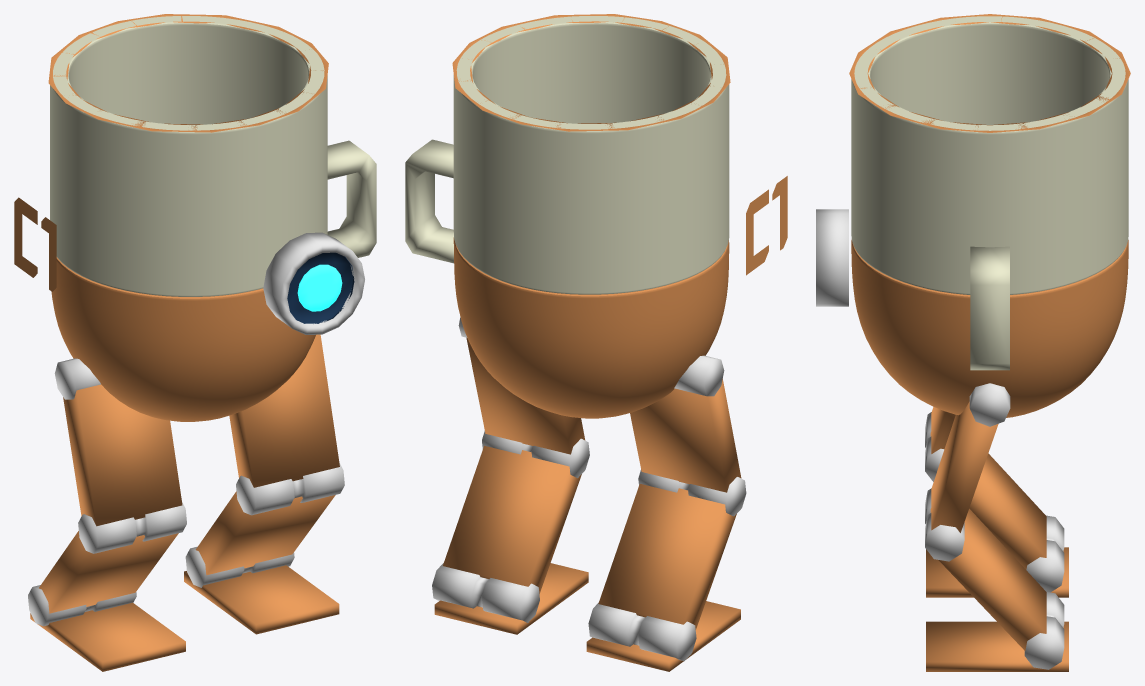
Rendered from Robot.glb.
The picture shows the model from 3 angles, left to right: view 1: azimuth 30°, elevation 25°; view 2: azimuth 150°, elevation 25°; view 3: azimuth 270°, elevation 25°; orthographic projection.
Parts seen in each view (by area): view 1: Roundcube, Cube.001_slice, Cube.001_slice.002, Cylinder, Cube.001_slice.003, Cube.001_slice.001, Cube.008, Cube.005, Cube, Cylinder.002, Cylinder.005, Roundcube.001 (+4 smaller); view 2: Roundcube, Cube.001_slice.003, Cube.001_slice.001, Cube.001_slice, Cube.001_slice.002, Cube, Cylinder.003, Cylinder.006, Cube.008, Cube.005, Roundcube.001, Cylinder.002 (+3 smaller); view 3: Roundcube, Cube.001_slice.003, Cube.008, Cube, Cube.001_slice.001, Cube.001_slice.002, Cylinder, Roundcube.001, Cylinder.006, Cylinder.003, Cube.005, Cylinder.005 (+3 smaller).
Boxes of the visible parts, x1,y1,x2,y2 form: Roundcube: (50,16,327,421); Cube.001_slice: (63,384,182,526); Cube.001_slice.002: (229,334,339,487); Cylinder: (263,232,364,334); Cube.001_slice.003: (195,491,335,575); Cube.001_slice.001: (39,531,178,613); Cube.008: (184,565,339,634); Cube.005: (30,602,185,671); Cube: (327,140,376,257); Cylinder.002: (78,502,186,553); Cylinder.005: (236,462,344,515); Roundcube.001: (48,14,328,132); Roundcube: (453,16,729,418); Cube.001_slice.003: (443,445,581,593); Cube.001_slice.001: (598,484,736,629); Cube.001_slice: (630,379,741,492); Cube.001_slice.002: (466,337,585,454); Cube: (405,139,453,263); Cylinder.003: (588,603,696,661); Cylinder.006: (432,563,539,622); Cube.008: (434,563,588,634); Cube.005: (586,601,740,671); Roundcube.001: (452,14,730,131); Cylinder.002: (638,469,746,516); Roundcube: (851,16,1128,417); Cube.001_slice.003: (938,508,1046,650); Cube.008: (926,621,1068,671); Cube: (970,246,1009,370); Cube.001_slice.001: (969,453,1046,569); Cube.001_slice.002: (930,401,998,532); Cylinder: (816,209,848,306); Roundcube.001: (849,14,1130,132); Cylinder.006: (1024,592,1064,669); Cylinder.003: (1026,515,1064,592); Cube.005: (926,547,1068,597); Cylinder.005: (925,488,964,561).
Size of what is drawn, in the model's own units: 2.77 by 4.22 by 2.22.
